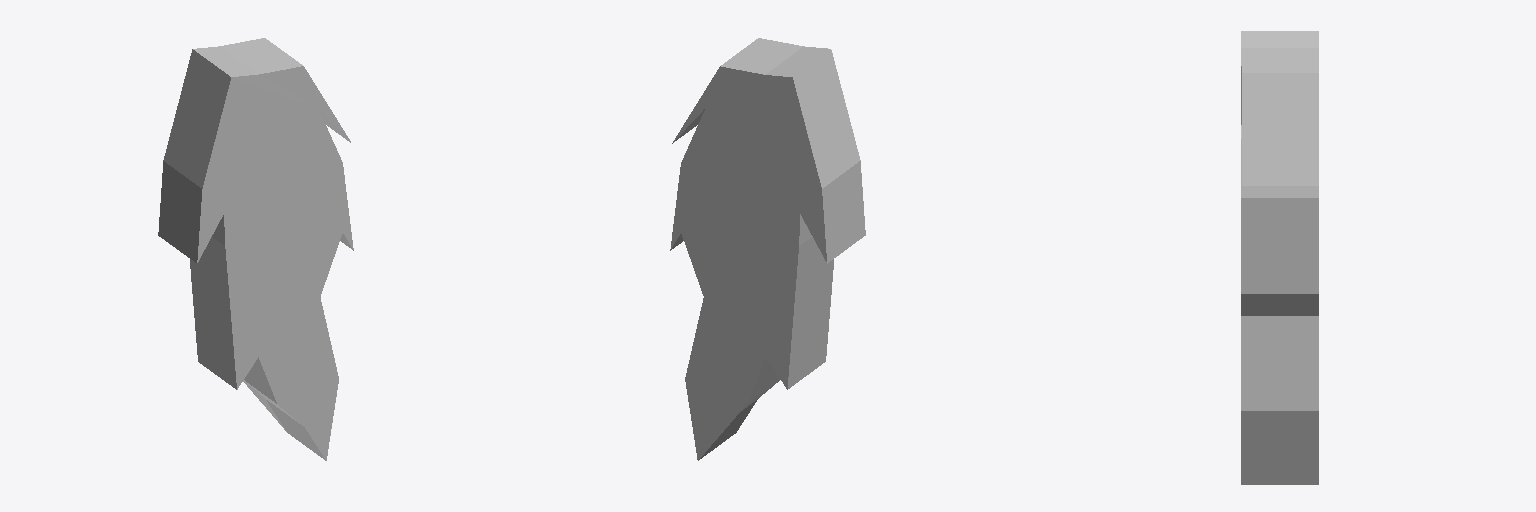
The model's file is roughJet.obj.
3 views of the same model, side by side, from view 1: azimuth 30°, elevation 25°; view 2: azimuth 150°, elevation 25°; view 3: azimuth 270°, elevation 25° (orthographic).
Visible parts, largest first — view 1: Cube_Cube.002; view 2: Cube_Cube.002; view 3: Cube_Cube.002.
Boxes of the visible parts, box(x1,y1,x2,y2) form: Cube_Cube.002: box(158, 38, 353, 460); Cube_Cube.002: box(670, 38, 865, 460); Cube_Cube.002: box(1241, 31, 1318, 484).
Bounding box in the file's own units: 0.253 × 0.6273 × 0.1093.